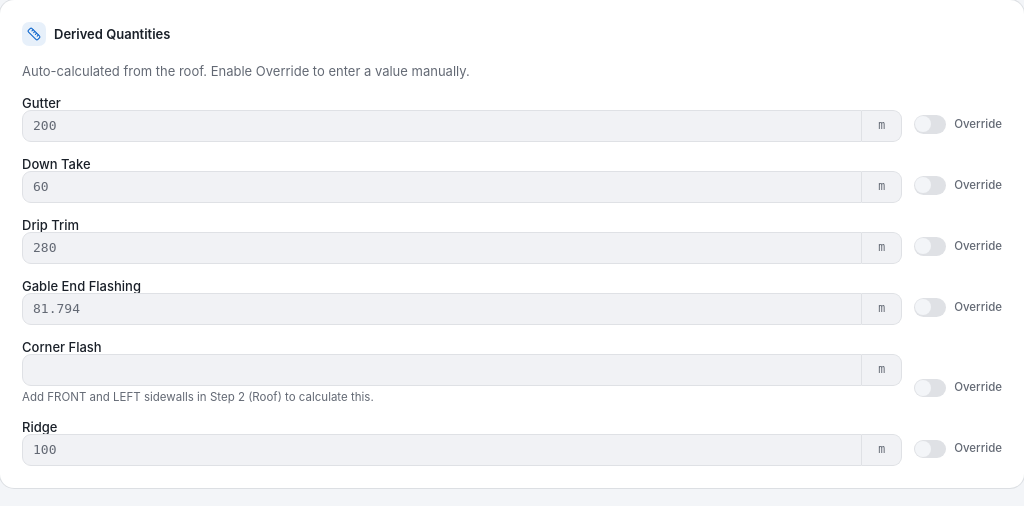
DerivedQuantities section › hides the hint when Override is enabled for Corner Flash
Check: the text "Add FRONT and LEFT sidewalls" is shown, box x1=22 y1=390 x2=374 y2=404
Click the switch named "override corner flash quantity": (930, 388) x1=914 y1=378 x2=946 y2=397
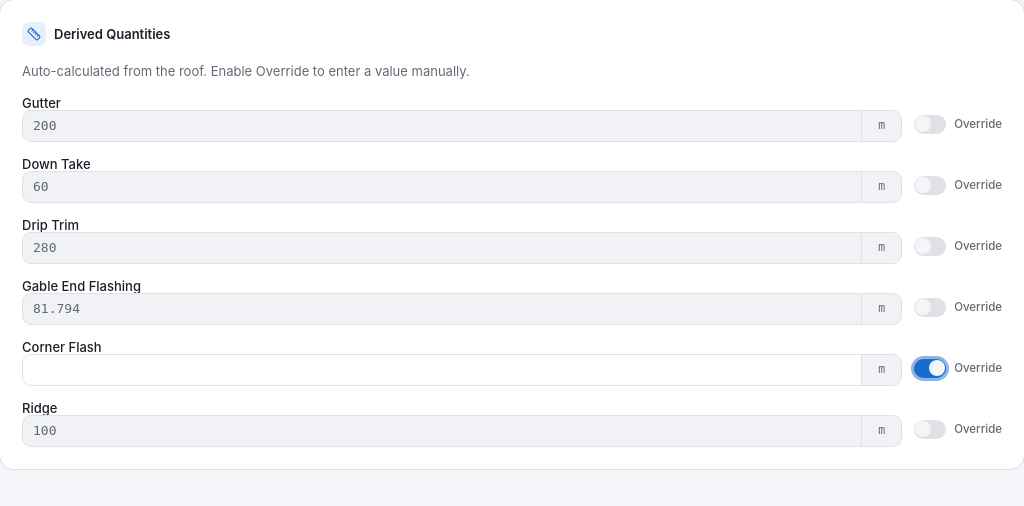
Check: the text "Add FRONT and LEFT sidewalls" is gone
